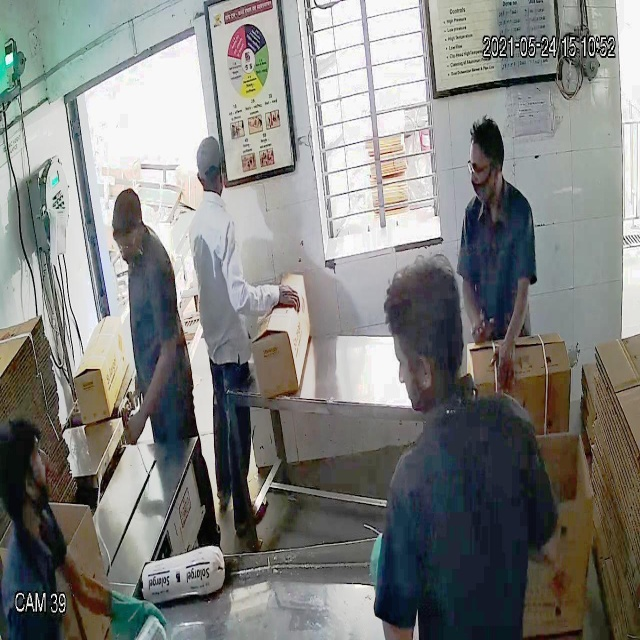Gafas: (466, 151, 502, 182)
